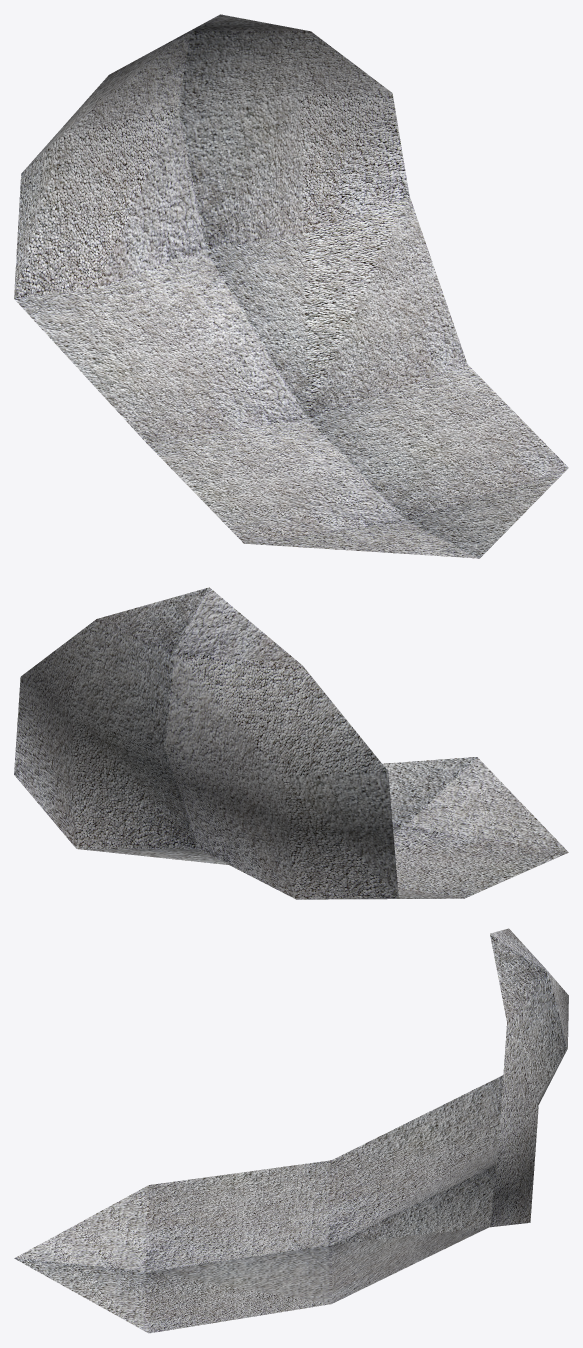
The model's file is Capsule_seat.fbx.
The picture shows the model from 3 angles, top to bottom: view 1: azimuth 30°, elevation 25°; view 2: azimuth 150°, elevation 25°; view 3: azimuth 270°, elevation 25°; orthographic projection. The views are drawn at different scales.
Parts seen in each view (by area): view 1: polySurface2; view 2: polySurface2; view 3: polySurface2.
Part boxes in pixels (bbox=[...]): polySurface2: bbox=[14, 14, 568, 558]; polySurface2: bbox=[14, 587, 568, 899]; polySurface2: bbox=[14, 928, 568, 1333].
Size of the model in its own units: 1.56 by 1.43 by 2.13.
